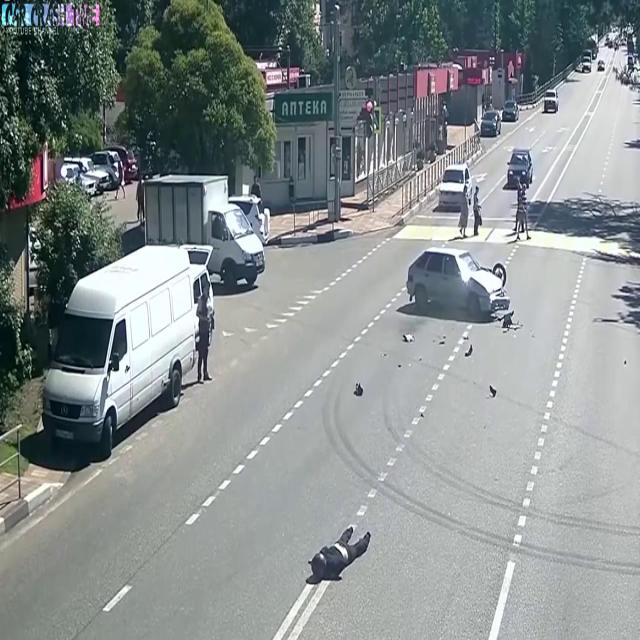accident: (385, 240, 527, 403), (291, 494, 389, 604)
non_accident: (35, 166, 273, 470), (436, 157, 488, 241), (500, 144, 539, 244), (480, 99, 523, 137)
